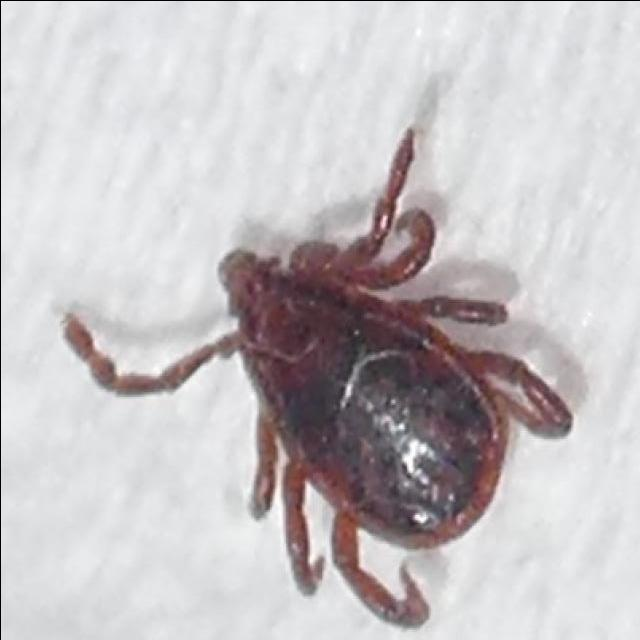Rhipicephalus Sanguineus-M: (60, 126, 575, 627)
